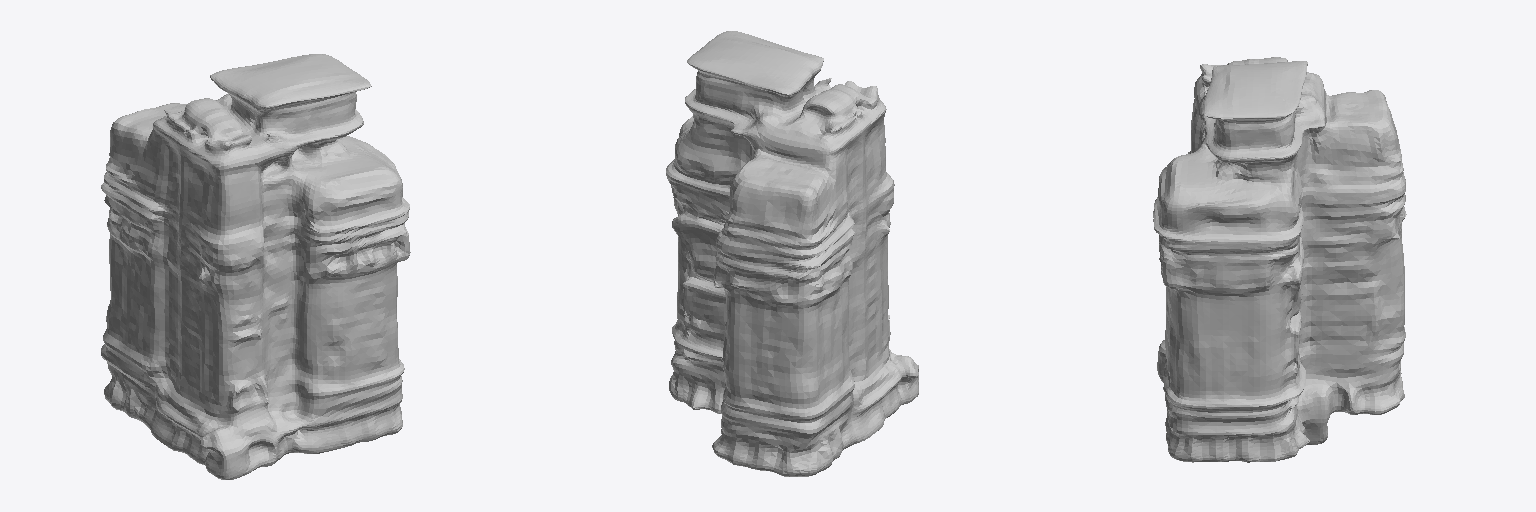
The model's file is 48566d8a9057_sci_fi_residential_.obj.
3 views of the same model, side by side, from view 1: azimuth 30°, elevation 25°; view 2: azimuth 150°, elevation 25°; view 3: azimuth 270°, elevation 25° (orthographic).
Visible parts, largest first — view 1: mesh; view 2: mesh; view 3: mesh.
Boxes of the visible parts, x1,y1,x2,y2 form: mesh: [101, 54, 410, 479]; mesh: [666, 31, 918, 476]; mesh: [1153, 57, 1406, 462].
Size of the model in its own units: 0.5872 by 0.9985 by 0.6162.